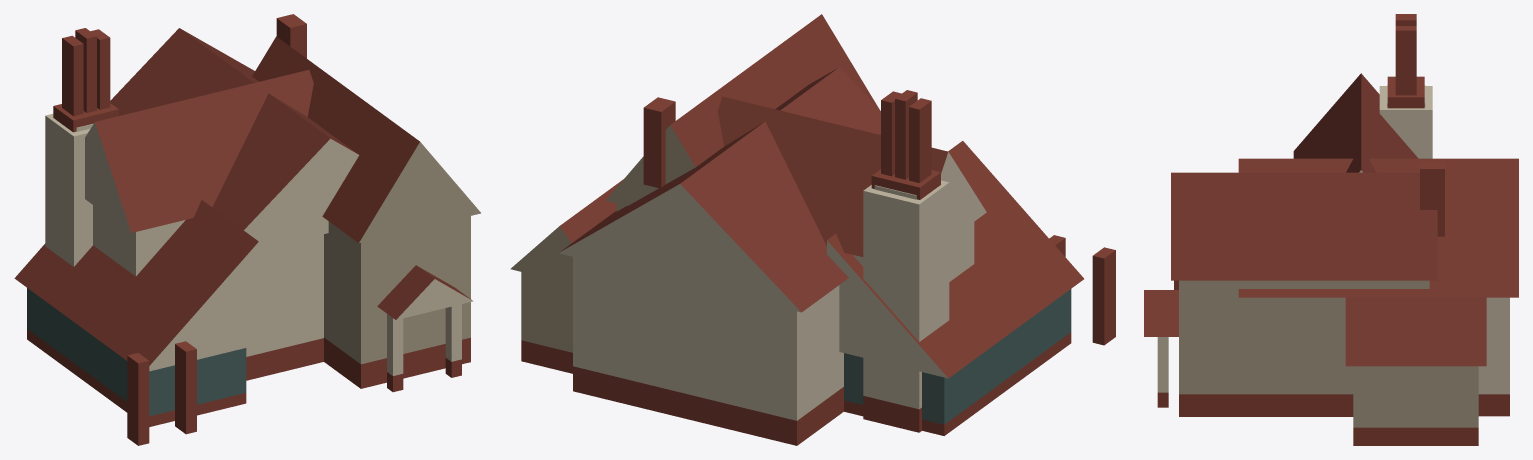
The model's file is test-hudec-memorial-a-massing.glb.
3 renders of one model, left to right at view 1: azimuth 30°, elevation 25°; view 2: azimuth 150°, elevation 25°; view 3: azimuth 270°, elevation 25°, orthographic. The views are drawn at different scales.
Visible parts, largest first — view 1: test-hudec-memorial-a-massing; view 2: test-hudec-memorial-a-massing; view 3: test-hudec-memorial-a-massing.
Part boxes in pixels (x1,y1,x2,y2): test-hudec-memorial-a-massing: (14, 14, 480, 445); test-hudec-memorial-a-massing: (510, 14, 1115, 445); test-hudec-memorial-a-massing: (1144, 14, 1518, 445).
Size of the model in its own units: 11.07 by 7.9 by 9.56.
